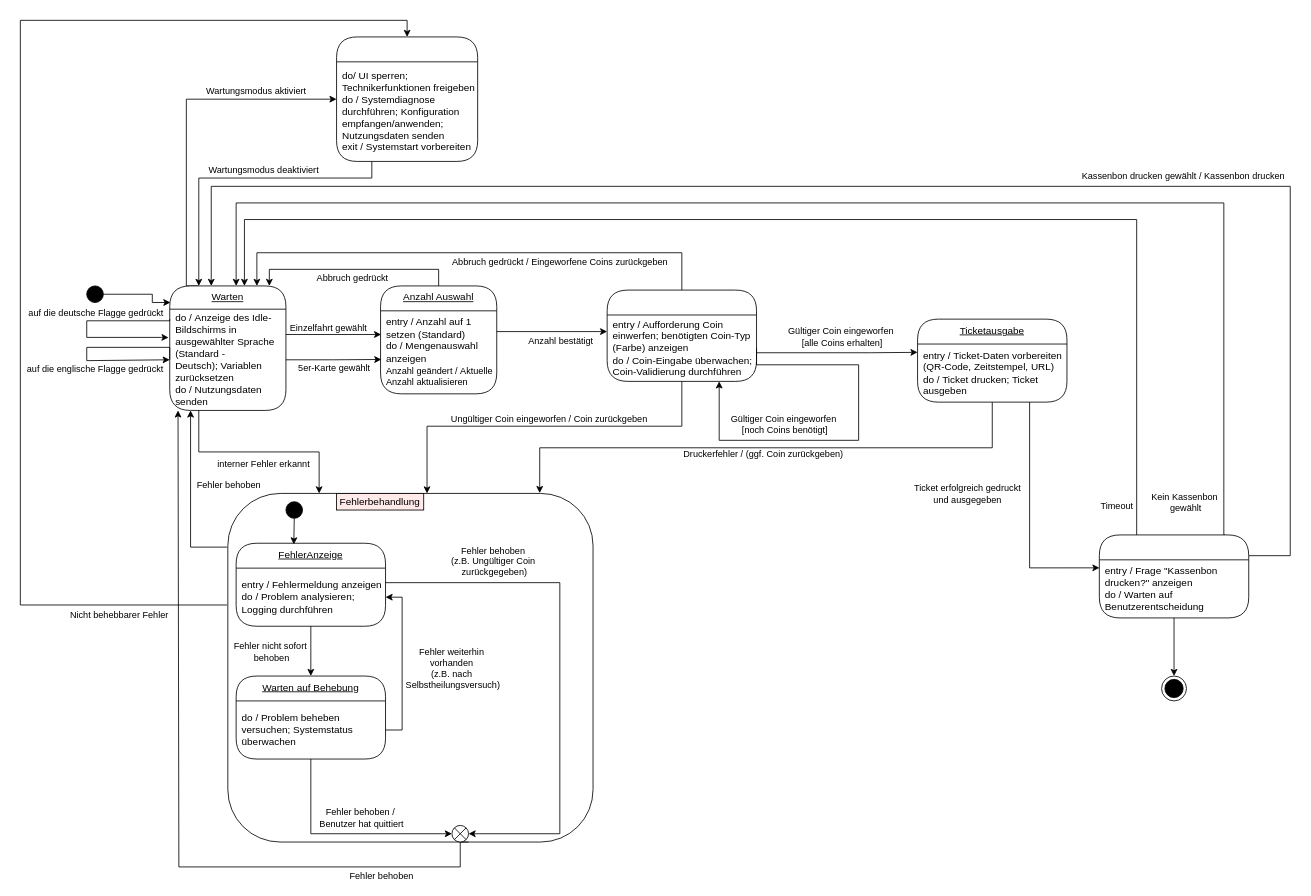
This 1311x896 diagram has some shape labels left out. Each missing label, with the box of its shape:
Bezalvorgang: (606, 289, 757, 381)
KassenbonAuswahl: (1099, 534, 1249, 618)
Wartungsmodus: (336, 36, 478, 161)
